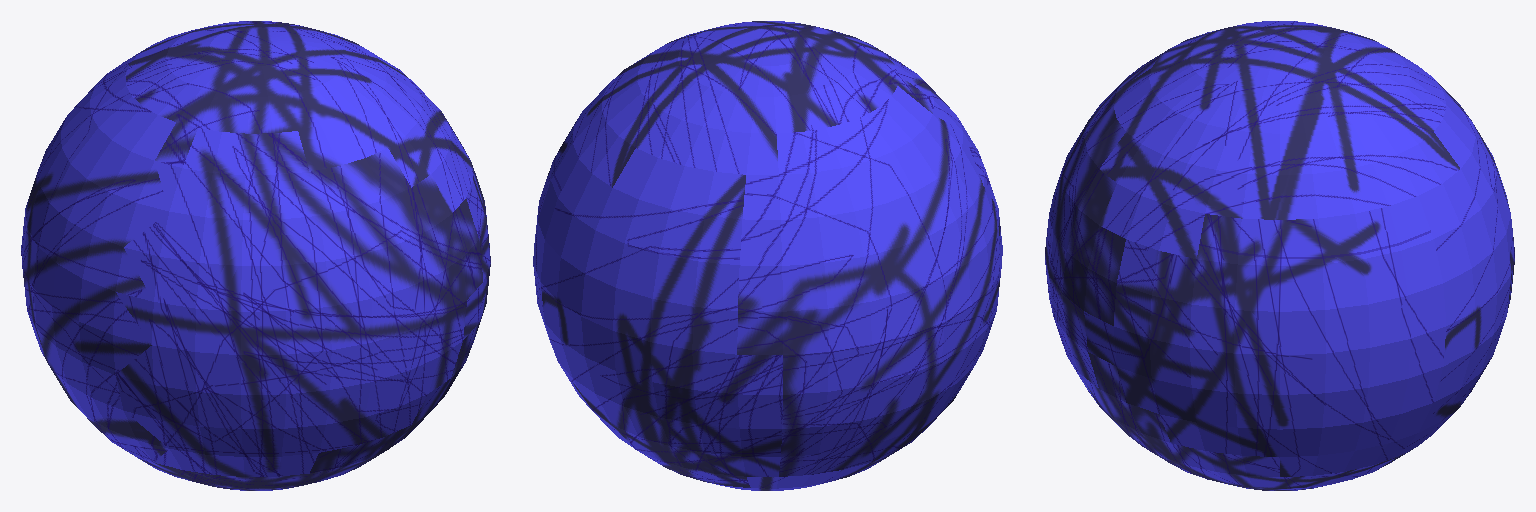
3 renders of one model, left to right at view 1: azimuth 30°, elevation 25°; view 2: azimuth 150°, elevation 25°; view 3: azimuth 270°, elevation 25°, orthographic.
Visible parts, largest first — view 1: 球; view 2: 球; view 3: 球.
Part boxes in pixels (x1,y1,x2,y2): 球: (21, 21, 490, 490); 球: (533, 21, 1002, 490); 球: (1045, 21, 1514, 490).
Bounding box in the file's own units: 2 × 2 × 2.
1 materials, 1 textured.